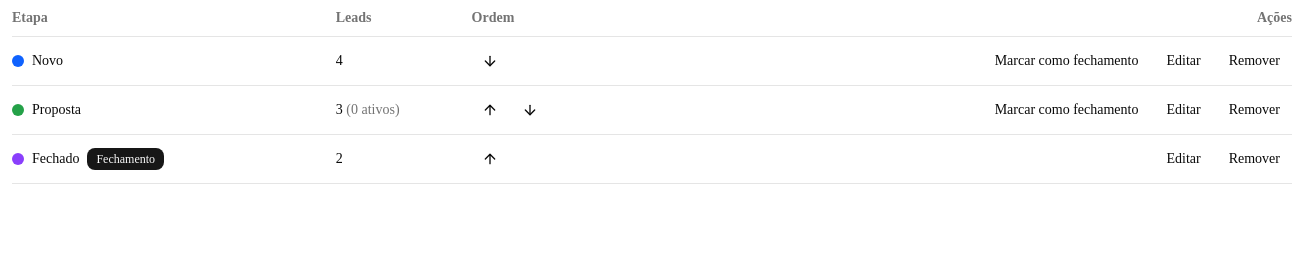
Test: EtapasTable — setas › falha de REDE avisa em vez de ficar em silêncio
The width and height of the screenshot is (1304, 271).
Click the button named "Subir etapa" in the row of "Proposta" at (490, 110), box [472, 94, 508, 126]
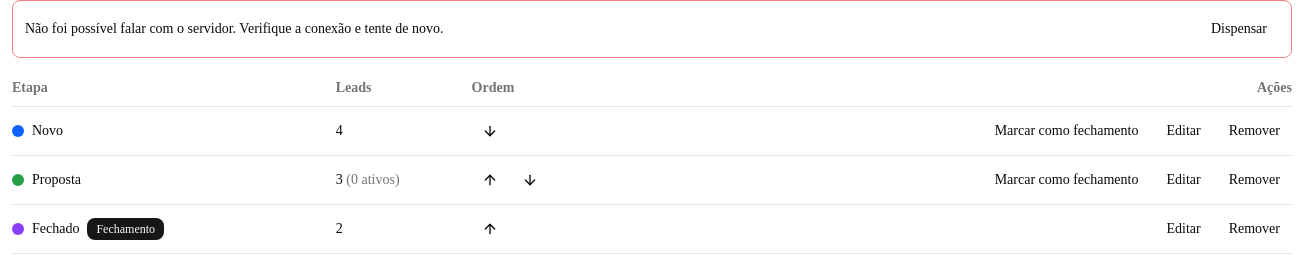
Result: the message shows "falar com o servidor" at [25, 21, 444, 36]
